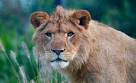lion: (28, 5, 129, 83)
